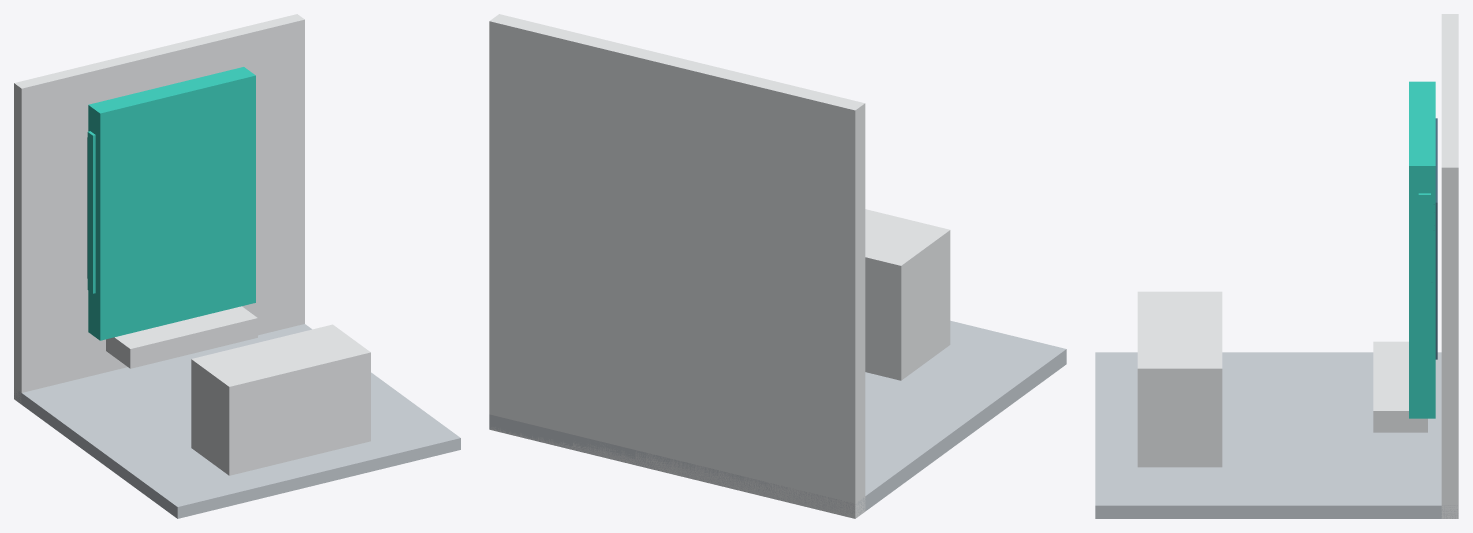
The picture shows the model from 3 angles, left to right: view 1: azimuth 30°, elevation 25°; view 2: azimuth 150°, elevation 25°; view 3: azimuth 270°, elevation 25°; orthographic projection. The views are drawn at different scales.
Parts seen in each view (by area): view 1: Exhibition Booth Concept; view 2: Exhibition Booth Concept; view 3: Exhibition Booth Concept.
Part boxes in pixels (left/top/right/bottom): Exhibition Booth Concept: left=14, top=14, right=460, bottom=518; Exhibition Booth Concept: left=489, top=14, right=1066, bottom=518; Exhibition Booth Concept: left=1095, top=14, right=1458, bottom=518.
Size of the model in its own units: 3 by 3.2 by 3.
